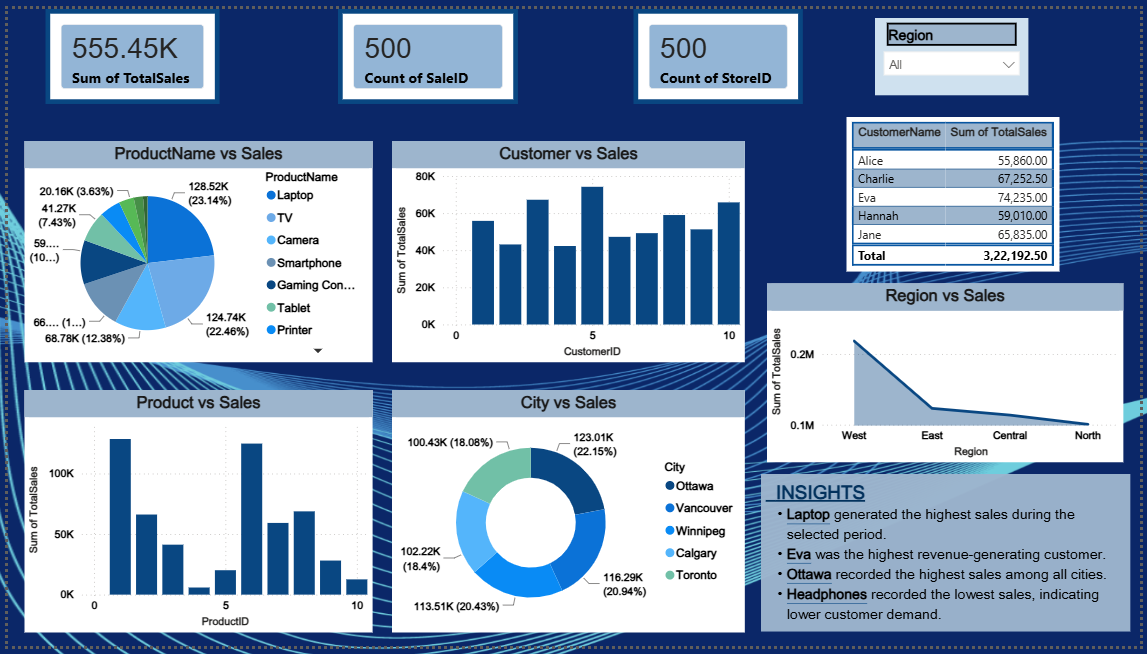

What the dashboard file says about the page in this screenshot:
{"tool":"powerbi","page":{"name":"Sales Wise Analysis","canvas":[1280,720],"ordinal":1},"visuals":[{"type":"columnChart","title":"Customer vs Sales","fields":{"Category":["Sales_2025.CustomerID"],"Y":["Sum(Sales_2025.TotalSales)"]},"box":[433.8,148.9,398.9,250],"z":0},{"type":"clusteredColumnChart","title":"Product vs Sales","fields":{"Category":["Products.ProductID"],"Y":["Sum(Sales_2025.TotalSales)"]},"box":[18.4,430.1,393.4,273.9],"z":1000},{"type":"pieChart","title":"ProductName vs Sales","fields":{"Category":["Products.ProductName"],"Y":["Sum(Sales_2025.TotalSales)"]},"box":[18.4,148.9,393.4,250],"z":2000},{"type":"donutChart","title":"City vs Sales","fields":{"Y":["Sum(Sales_2025.TotalSales)"],"Category":["Stores.City"]},"box":[433.8,430.1,398.9,273.9],"z":3000},{"type":"cardVisual","fields":{"Data":["Sum(Sales_2025.TotalSales)"]},"box":[42.9,0,196.4,107.1],"z":4000},{"type":"cardVisual","fields":{"Data":["CountNonNull(Sales_2025.StoreID)"]},"box":[707.1,0,191.1,107.1],"z":5000},{"type":"tableEx","fields":{"Values":["Customers.CustomerName","Sum(Sales_2025.TotalSales)"]},"box":[946.7,121.3,240.8,174.6],"z":6000},{"type":"areaChart","title":"Region vs Sales","fields":{"Category":["Stores.Region"],"Y":["Sum(Sales_2025.TotalSales)"]},"box":[858.4,310.7,402.6,202.2],"z":7000},{"type":"cardVisual","fields":{"Data":["CountNonNull(Sales_2025.SaleID)"]},"box":[373.2,0,203.6,107.1],"z":8000},{"type":"slicer","fields":{"Values":["Customers.Region"]},"box":[979.6,9.7,173.3,87.4],"z":9000},{"type":"textbox","box":[851.1,525.7,417.3,178.3],"z":10000}]}

Visuals, with their boxes in screenshot pixels (x1, y1, x2, y2), scaled from the page's 1280x720 canvas onto the 1147x654 screenshot:
"Customer vs Sales" columnChart: (x1=389, y1=135, x2=746, y2=362)
"Product vs Sales" clusteredColumnChart: (x1=16, y1=391, x2=369, y2=639)
"ProductName vs Sales" pieChart: (x1=16, y1=135, x2=369, y2=362)
"City vs Sales" donutChart: (x1=389, y1=391, x2=746, y2=639)
cardVisual - Sum(Sales_2025.TotalSales): (x1=38, y1=0, x2=214, y2=97)
cardVisual - CountNonNull(Sales_2025.StoreID): (x1=634, y1=0, x2=805, y2=97)
tableEx - Customers.CustomerName x Sum(Sales_2025.TotalSales): (x1=848, y1=110, x2=1064, y2=269)
"Region vs Sales" areaChart: (x1=769, y1=282, x2=1130, y2=466)
cardVisual - CountNonNull(Sales_2025.SaleID): (x1=334, y1=0, x2=517, y2=97)
slicer - Customers.Region: (x1=878, y1=9, x2=1033, y2=88)
textbox: (x1=763, y1=478, x2=1137, y2=639)
